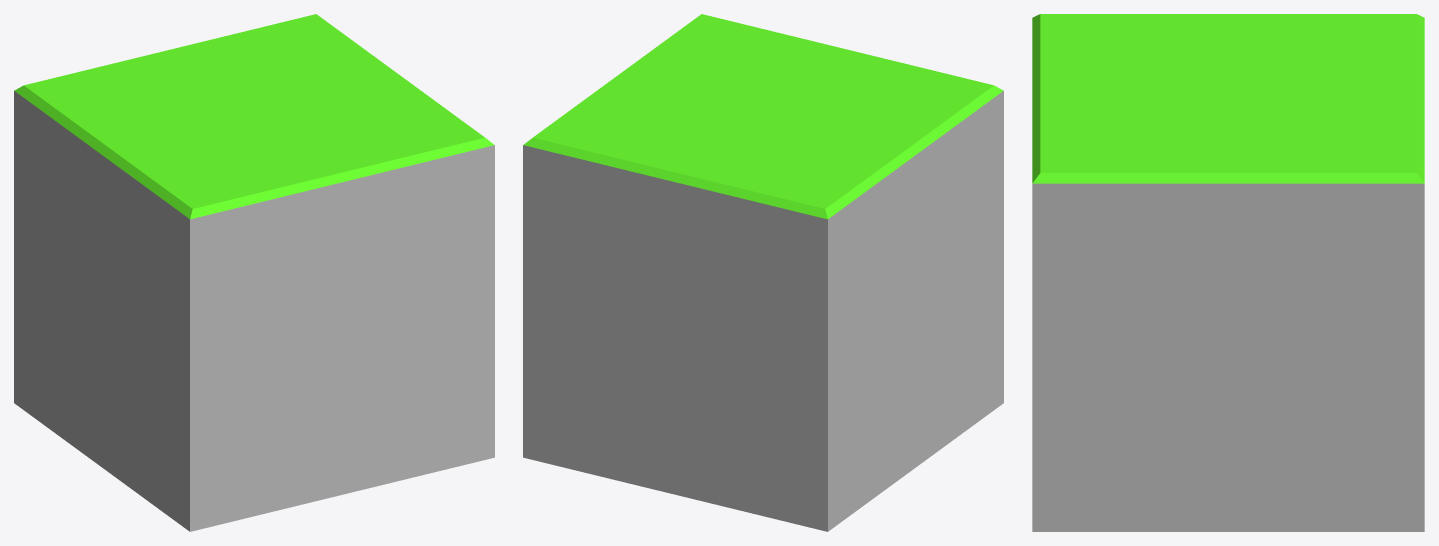
Rendered from tileBlock.fbx.
The picture shows the model from 3 angles, left to right: view 1: azimuth 30°, elevation 25°; view 2: azimuth 150°, elevation 25°; view 3: azimuth 270°, elevation 25°; orthographic projection. The views are drawn at different scales.
Parts seen in each view (by area): view 1: Object_1, Layer 01; view 2: Object_1, Layer 01; view 3: Object_1, Layer 01.
Part boxes in pixels (x1,y1,x2,y2): Object_1: (14, 91, 494, 531); Layer 01: (14, 14, 494, 219); Object_1: (523, 91, 1003, 531); Layer 01: (523, 14, 1003, 219); Object_1: (1032, 183, 1424, 531); Layer 01: (1032, 14, 1424, 183).
Size of the model in its own units: 100 by 100 by 100.
